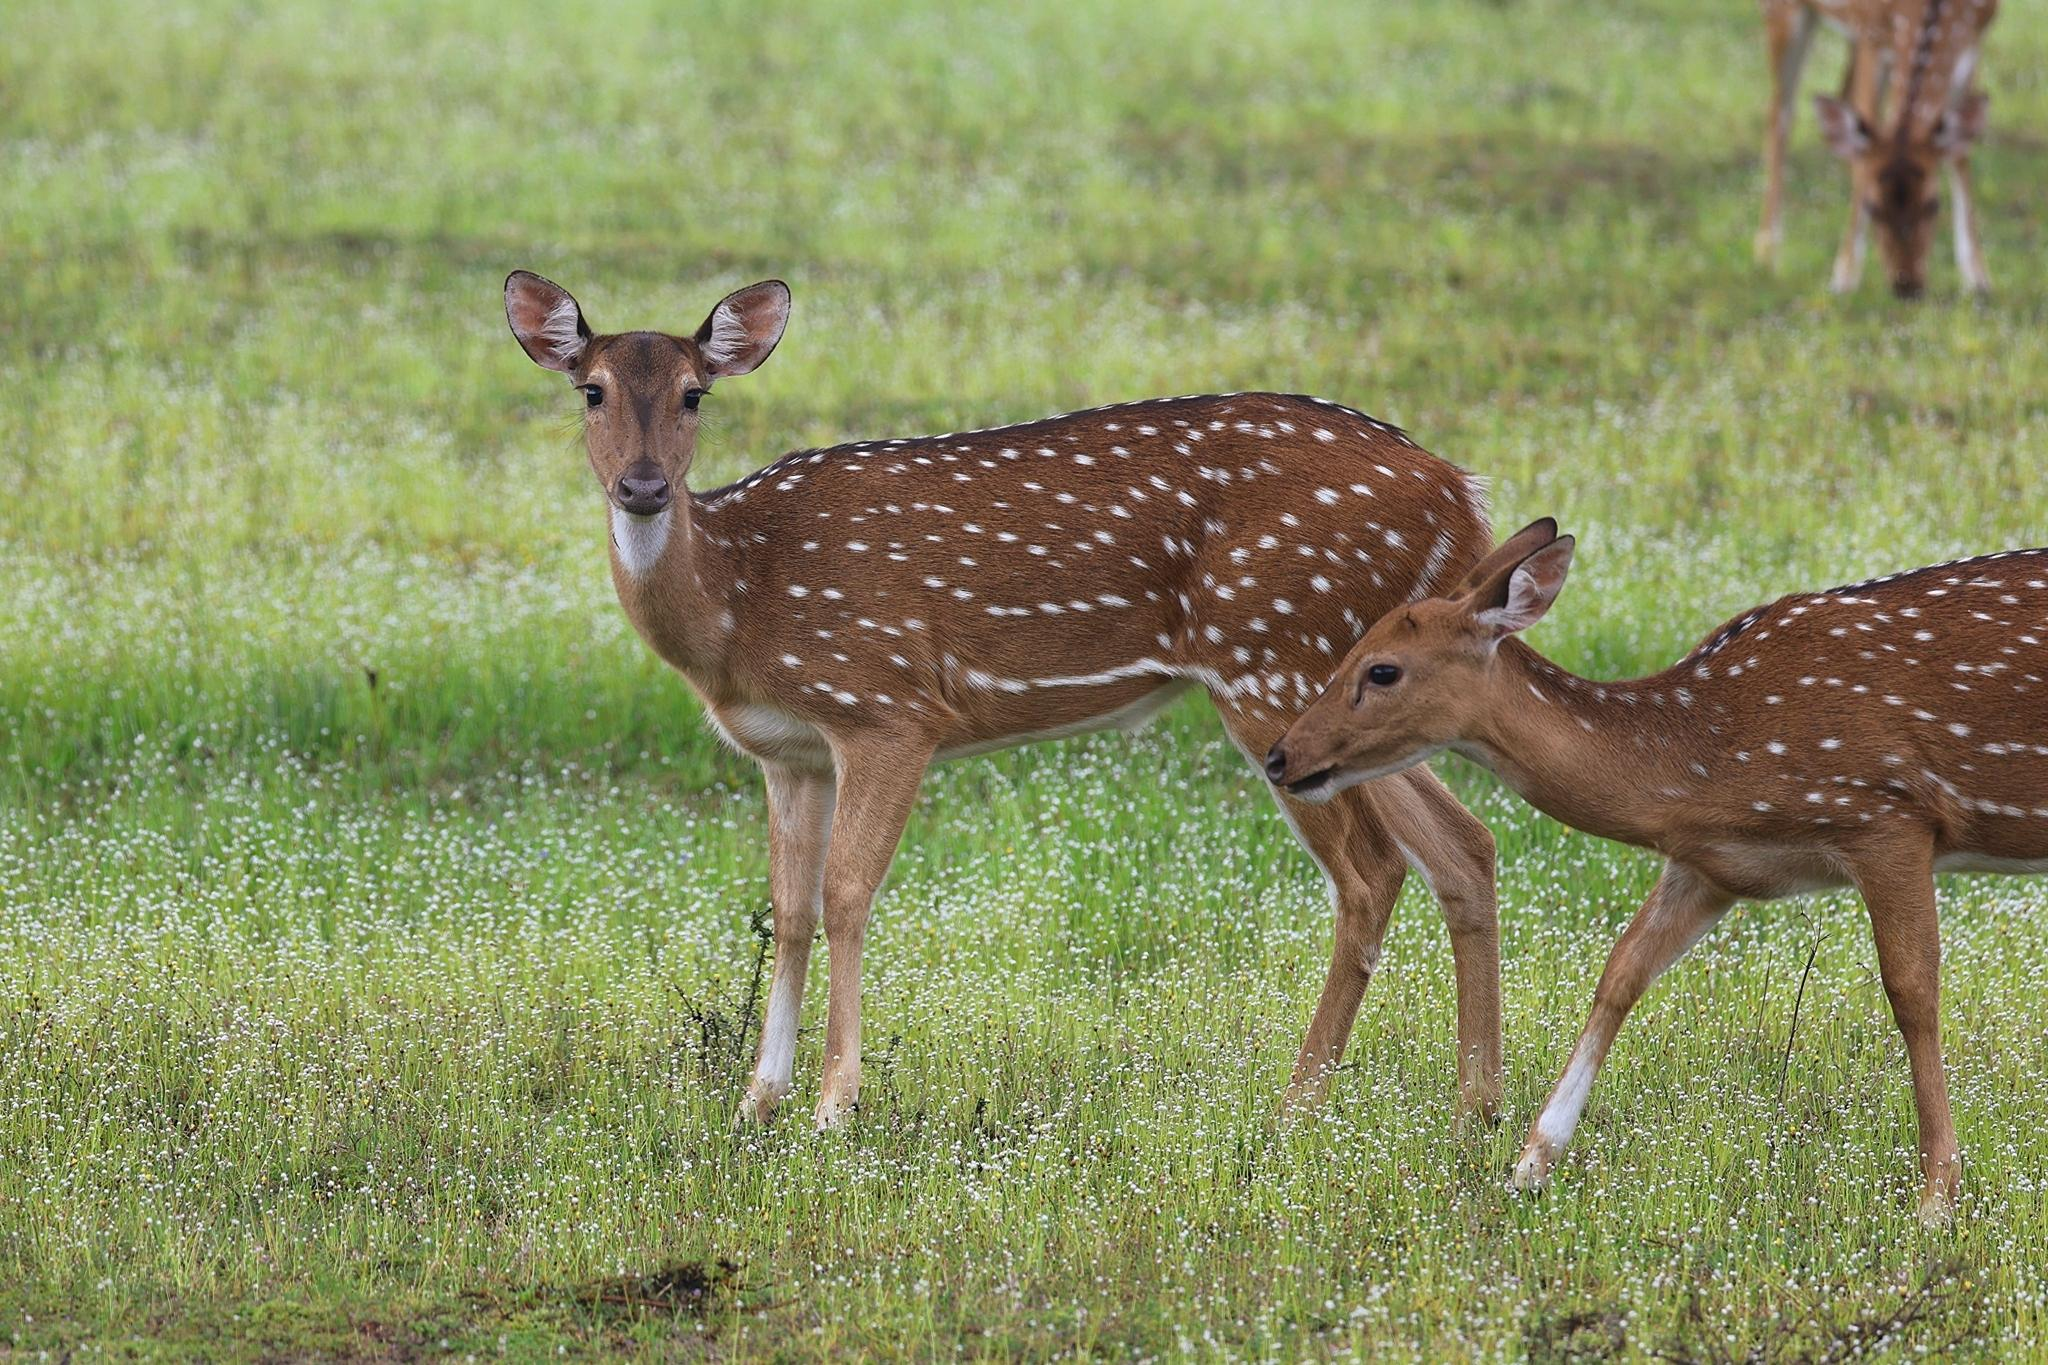Deer: (504, 270, 1492, 1123), (1264, 516, 2046, 1216)
